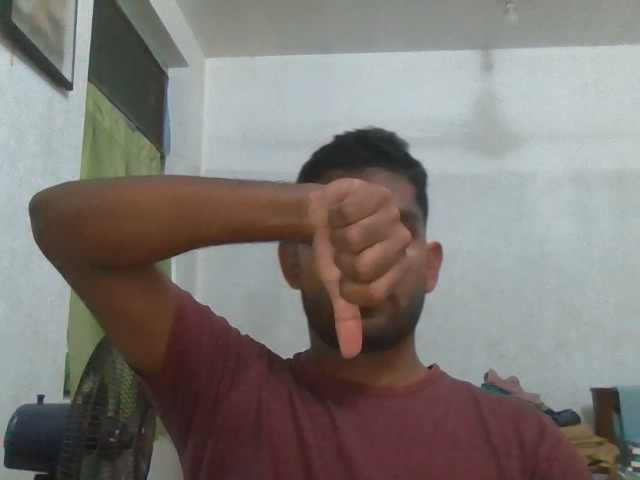dontlike: (287, 164, 421, 372)
